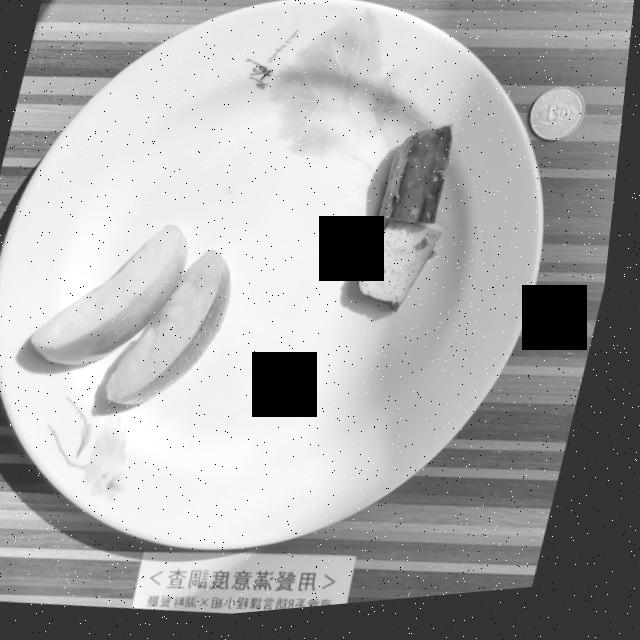apple -sliced-: (37, 229, 237, 408)
coin: (532, 97, 588, 151)
firm tofu: (364, 133, 456, 320)
